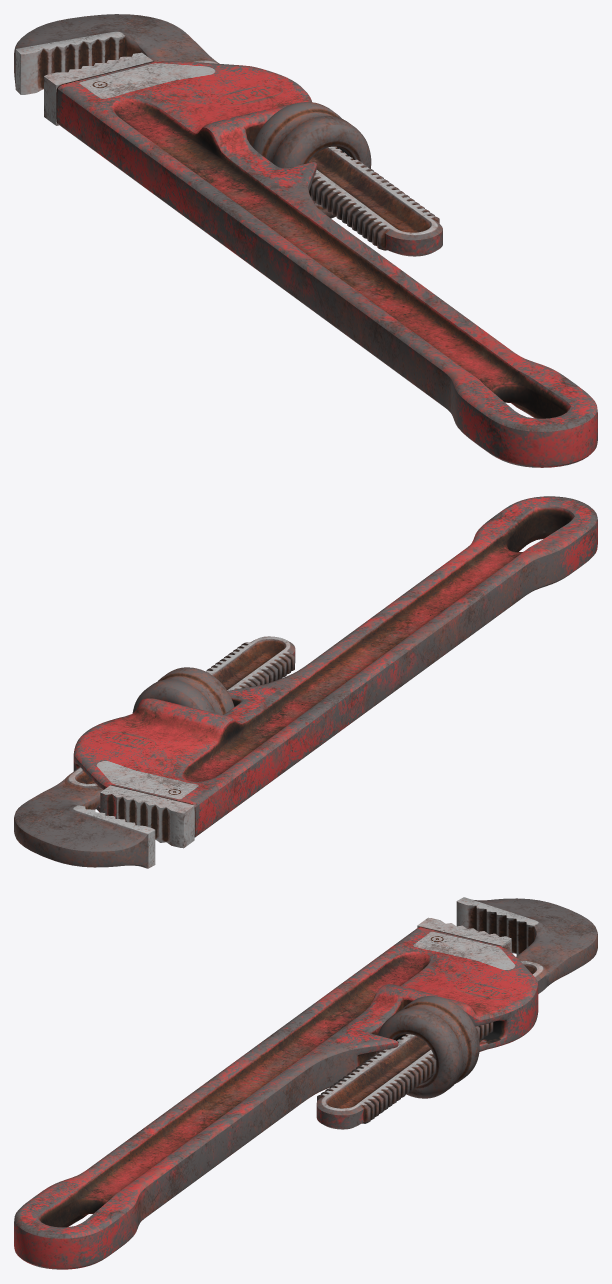
File: wrench_3.glb
The picture shows the model from 3 angles, top to bottom: view 1: azimuth 30°, elevation 25°; view 2: azimuth 150°, elevation 25°; view 3: azimuth 330°, elevation 25°; orthographic projection. The views are drawn at different scales.
Visible parts, largest first — view 1: c6f3714d4bec4c019e21d17a88afea46; view 2: c6f3714d4bec4c019e21d17a88afea46; view 3: c6f3714d4bec4c019e21d17a88afea46.
Part boxes in pixels (x1,y1,x2,y2): c6f3714d4bec4c019e21d17a88afea46: (14, 14, 597, 467); c6f3714d4bec4c019e21d17a88afea46: (14, 496, 597, 868); c6f3714d4bec4c019e21d17a88afea46: (14, 897, 597, 1269).
Size of the model in its own units: 0.2076 by 0.0973 by 1.
Materials: 1 (1 with a texture image).
